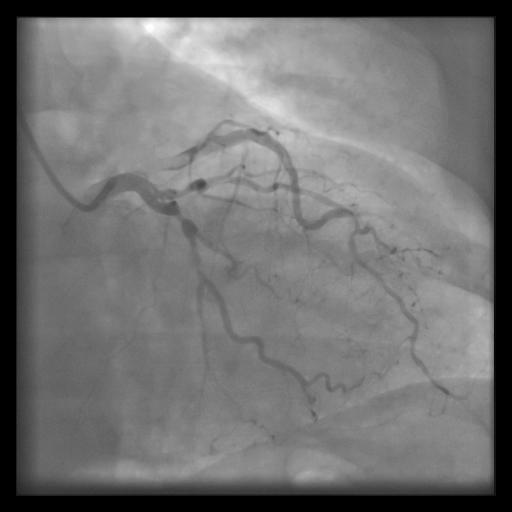Stenosis: (165, 200, 190, 226)
